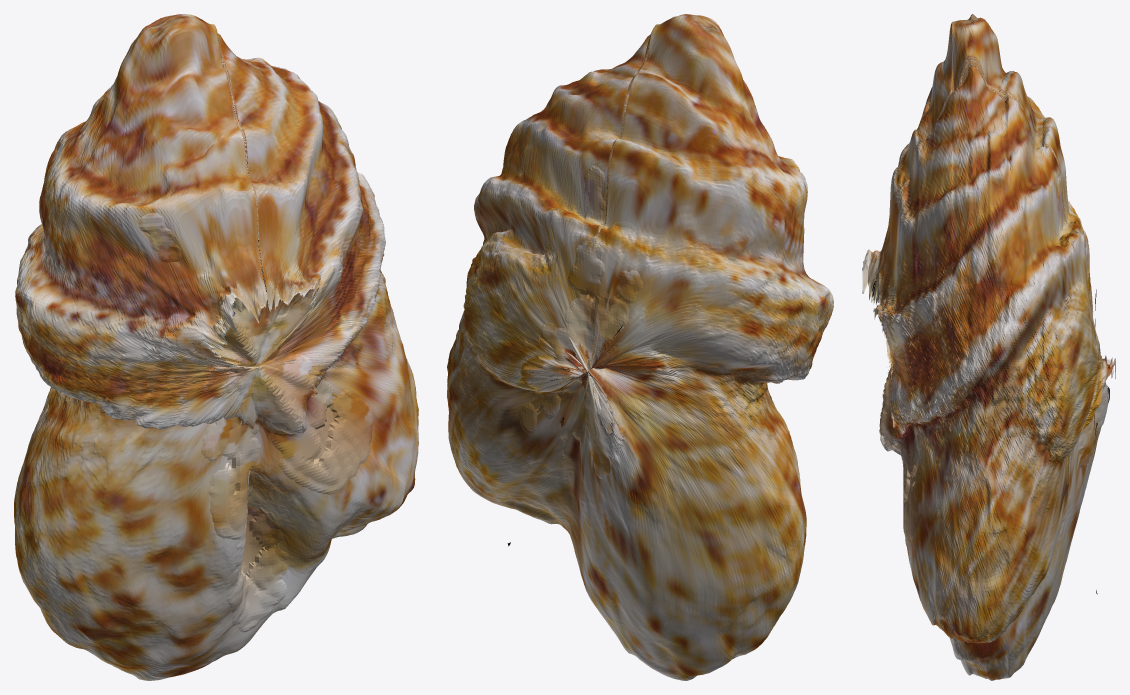
File: volume2_mesh.glb
3 renders of one model, left to right at view 1: azimuth 30°, elevation 25°; view 2: azimuth 150°, elevation 25°; view 3: azimuth 270°, elevation 25°, orthographic. The views are drawn at different scales.
Visible parts, largest first — view 1: ipn, fill; view 2: ipn, fill; view 3: ipn, fill.
Boxes of the visible parts, bbox=[...] form: ipn: bbox=[14, 14, 418, 680]; fill: bbox=[138, 213, 373, 632]; ipn: bbox=[447, 14, 833, 680]; fill: bbox=[519, 165, 642, 478]; ipn: bbox=[862, 14, 1115, 680]; fill: bbox=[879, 176, 1108, 547].
Size of the model in its own units: 1.12 by 1.85 by 0.6546.
Materials: 2 (1 with a texture image).
